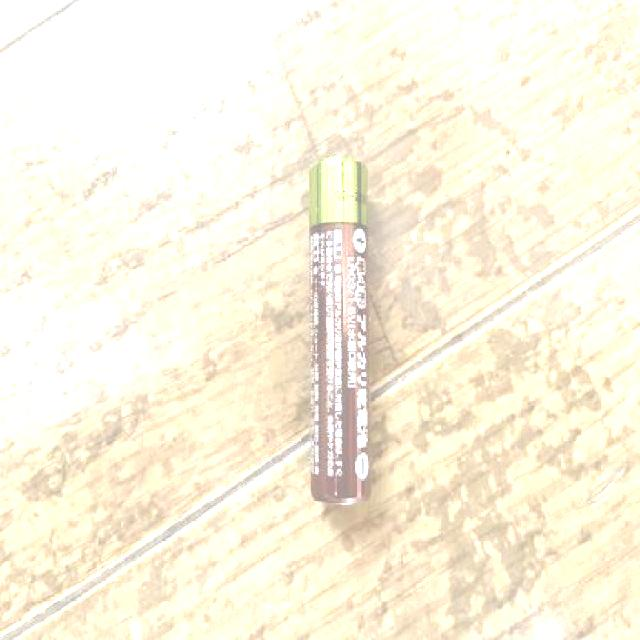AAA: (306, 150, 380, 508)
